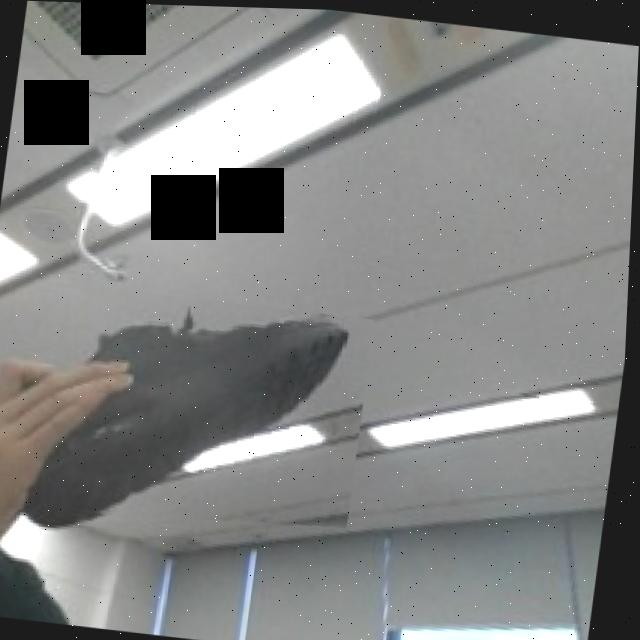shoe: (0, 277, 377, 546)
